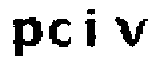c: (47, 17, 74, 51)
i: (81, 3, 102, 52)
p: (10, 14, 42, 60)
v: (112, 14, 149, 50)
